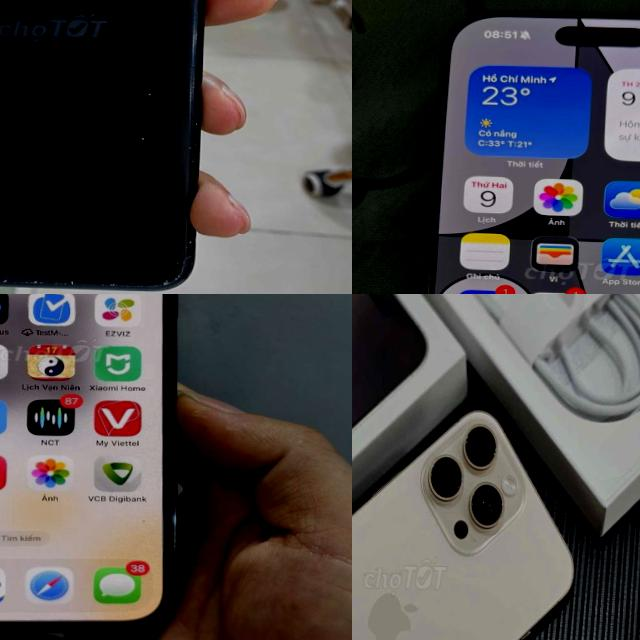gen_12_13: (0, 294, 191, 640)
gen_16: (396, 0, 640, 294), (352, 408, 580, 640)
gen_7_8: (0, 0, 219, 293)
scratch: (0, 249, 201, 288), (180, 118, 203, 170), (138, 82, 152, 145), (174, 234, 198, 252)
